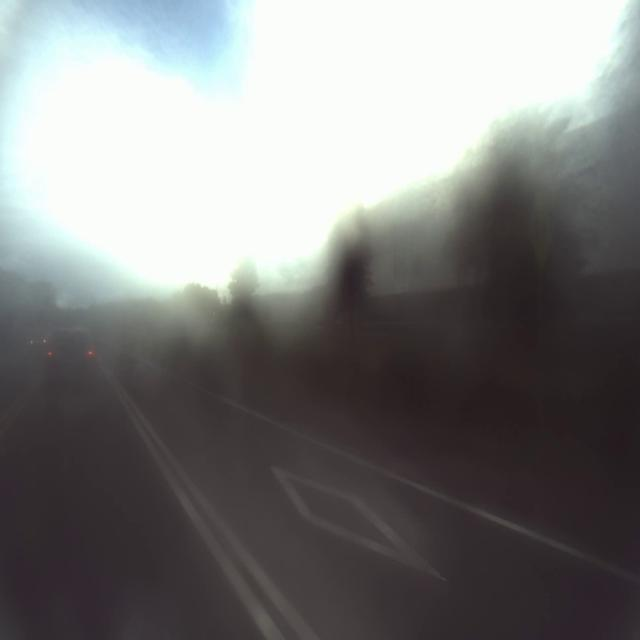car: (39, 314, 100, 397)
